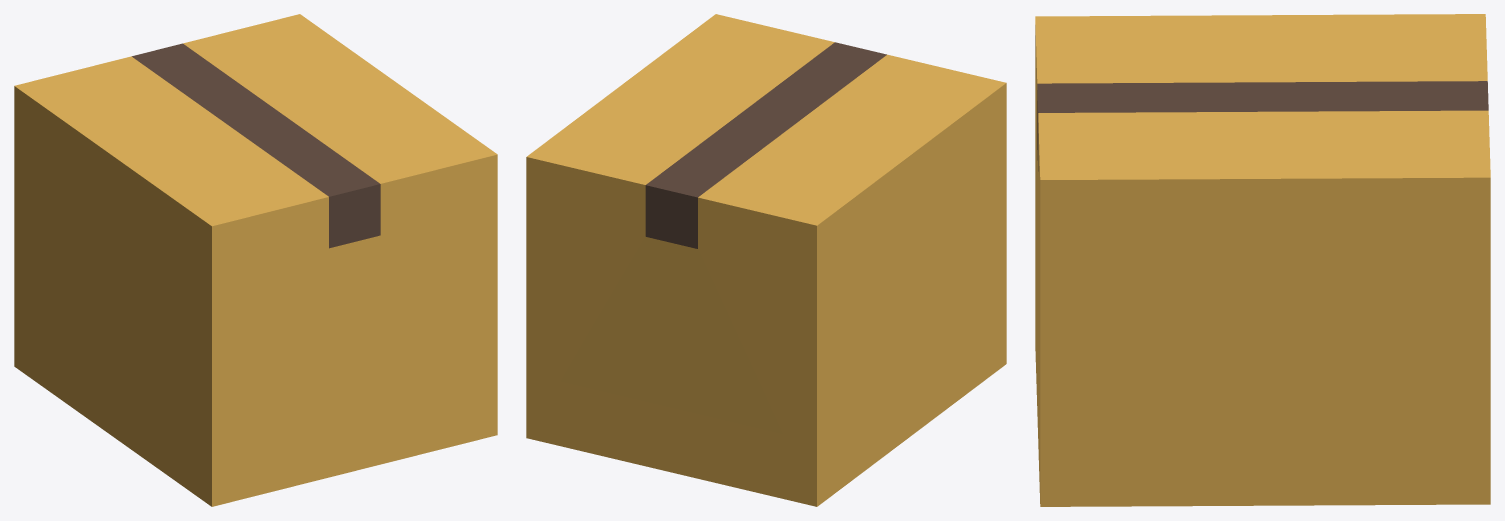
3 renders of one model, left to right at view 1: azimuth 30°, elevation 25°; view 2: azimuth 150°, elevation 25°; view 3: azimuth 270°, elevation 25°, orthographic. The views are drawn at different scales.
Parts seen in each view (by area): view 1: inside__M_Cnsw_58_ShelfSet_Obj_Design_B_cardboard.001; view 2: inside__M_Cnsw_58_ShelfSet_Obj_Design_B_cardboard.001; view 3: inside__M_Cnsw_58_ShelfSet_Obj_Design_B_cardboard.001.
Part boxes in pixels (x1=…): inside__M_Cnsw_58_ShelfSet_Obj_Design_B_cardboard.001: x1=14, y1=14, x2=497, y2=506; inside__M_Cnsw_58_ShelfSet_Obj_Design_B_cardboard.001: x1=526, y1=14, x2=1006, y2=506; inside__M_Cnsw_58_ShelfSet_Obj_Design_B_cardboard.001: x1=1035, y1=14, x2=1490, y2=506.
Size of the model in its own units: 10709 by 9823 by 12407.
